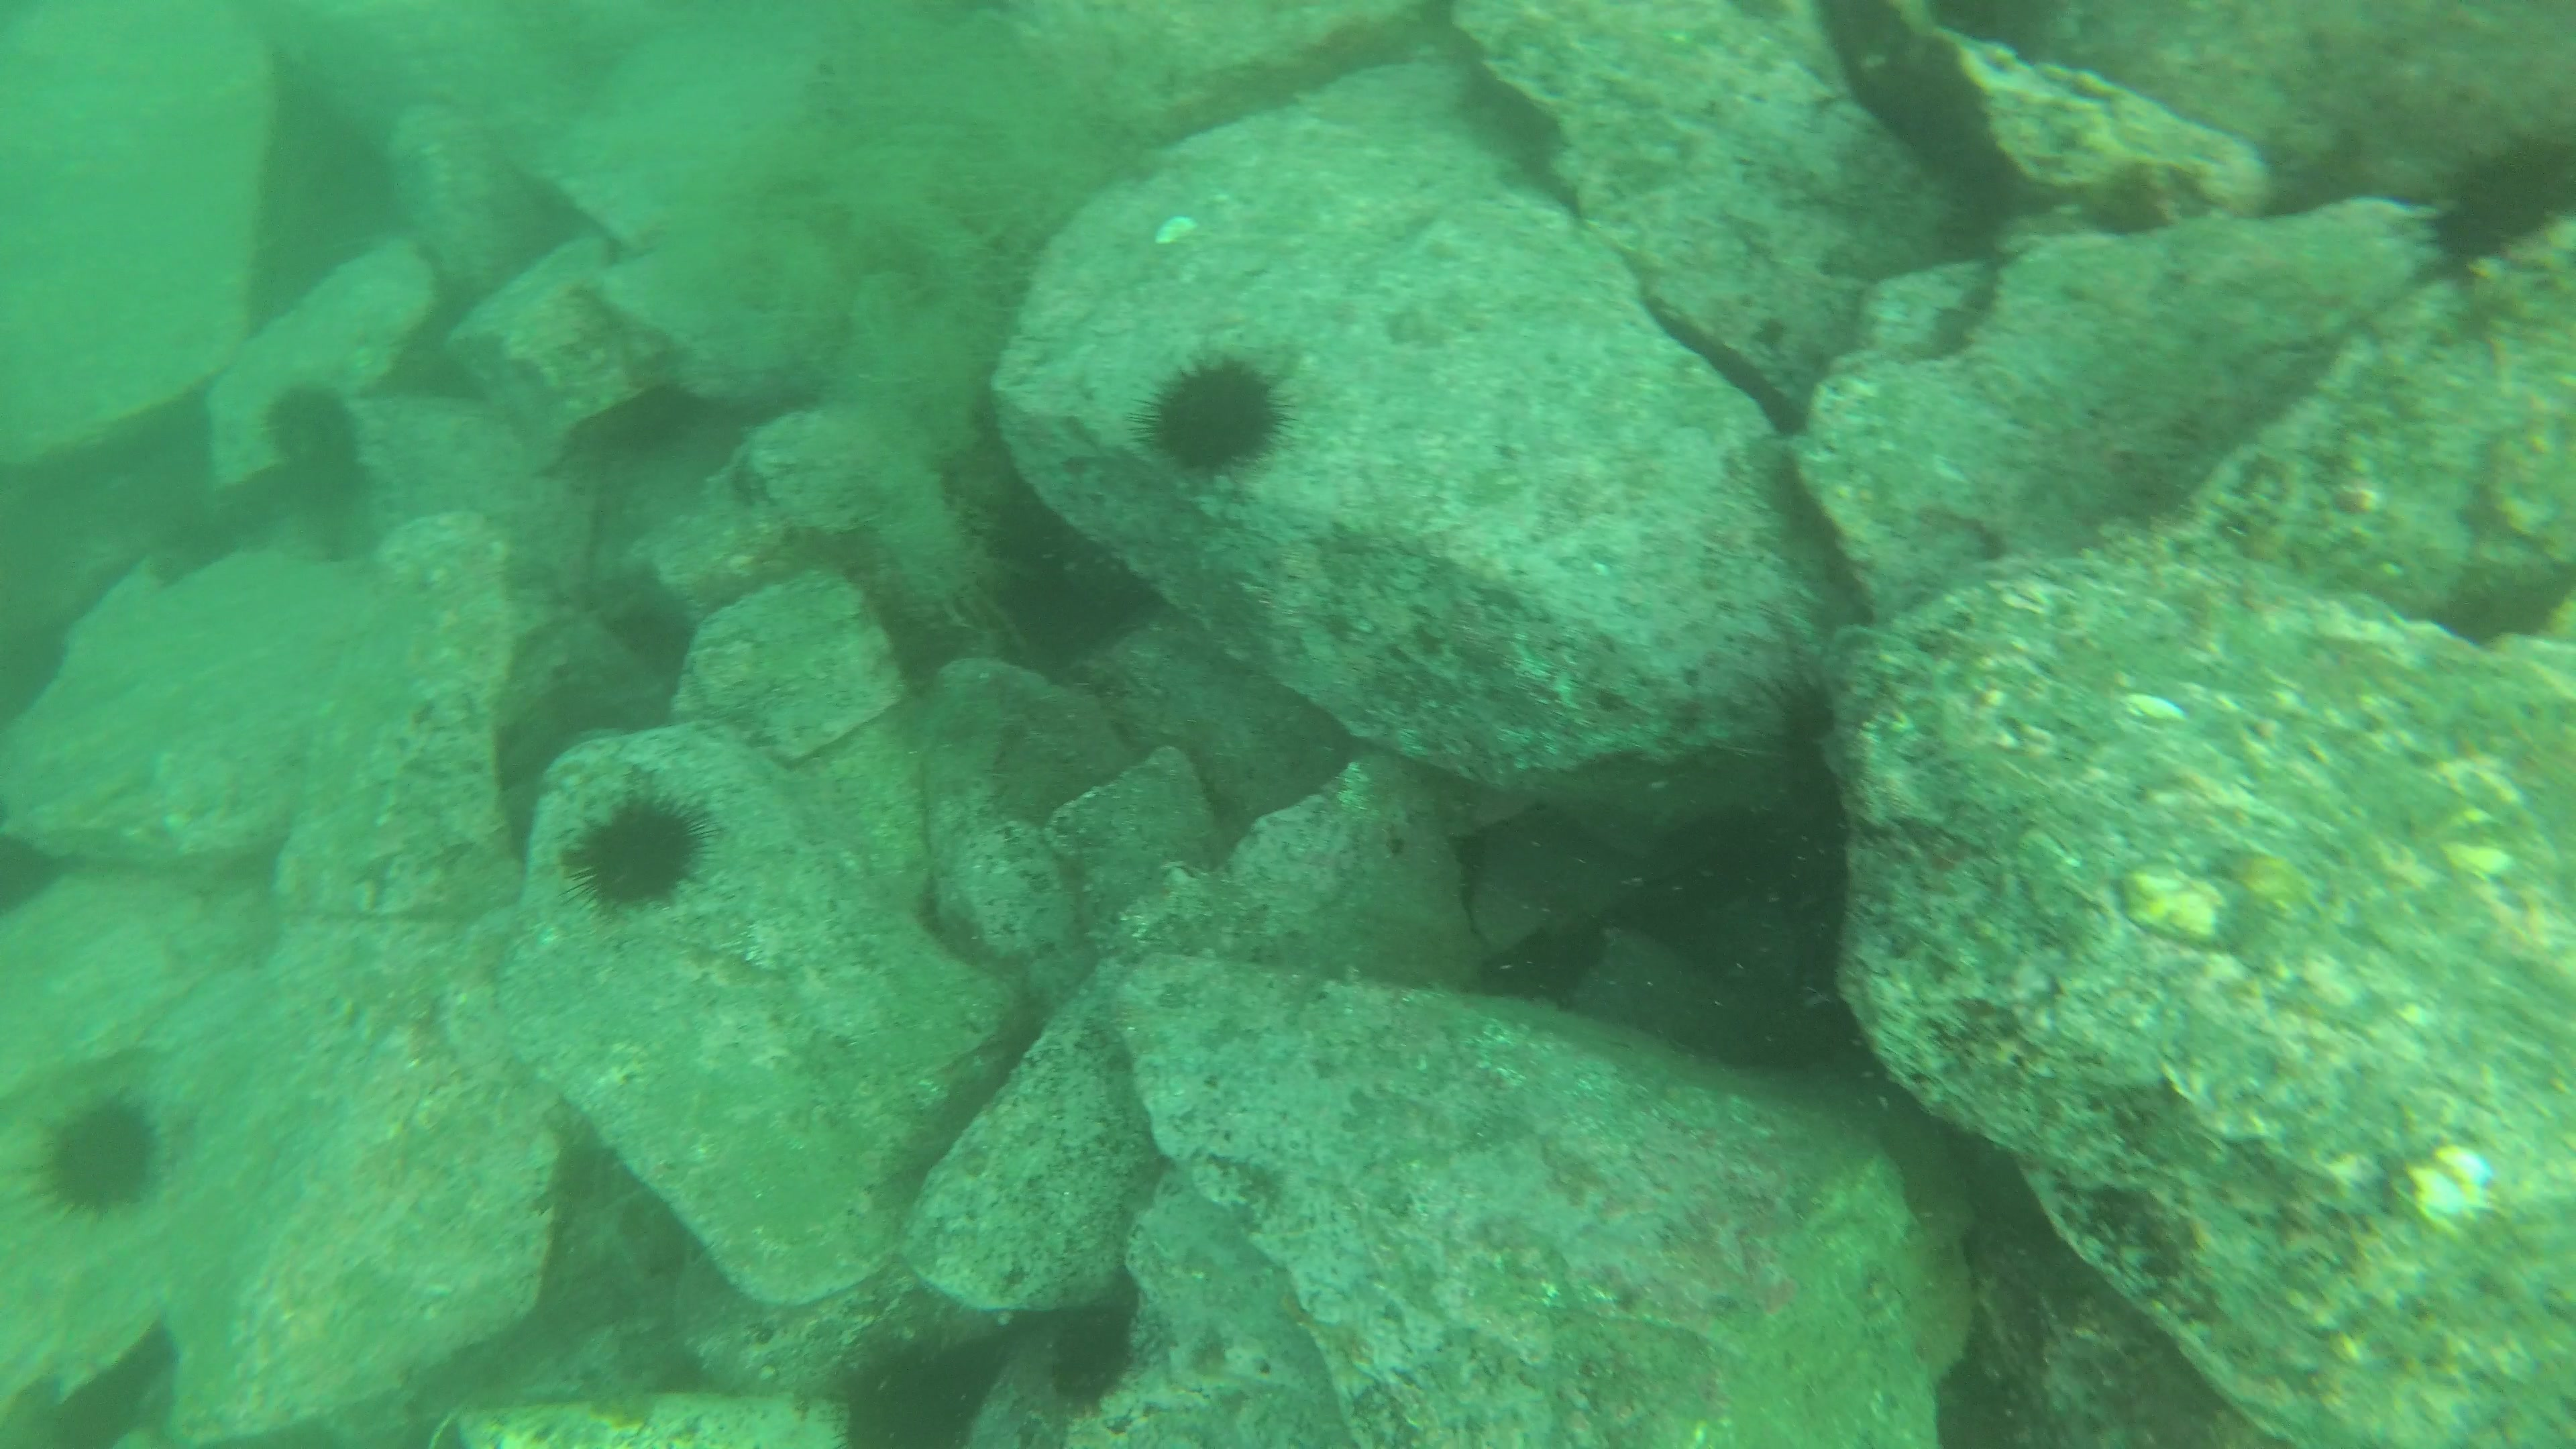echinus: (547, 771, 722, 922), (1132, 343, 1288, 497), (16, 1081, 179, 1221), (258, 373, 377, 502), (1767, 658, 1851, 768)
